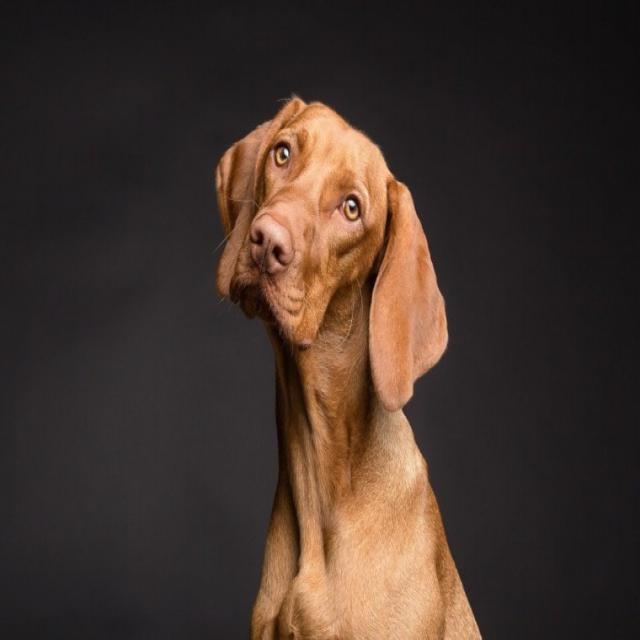eye: (336, 191, 364, 225), (272, 139, 293, 172)
